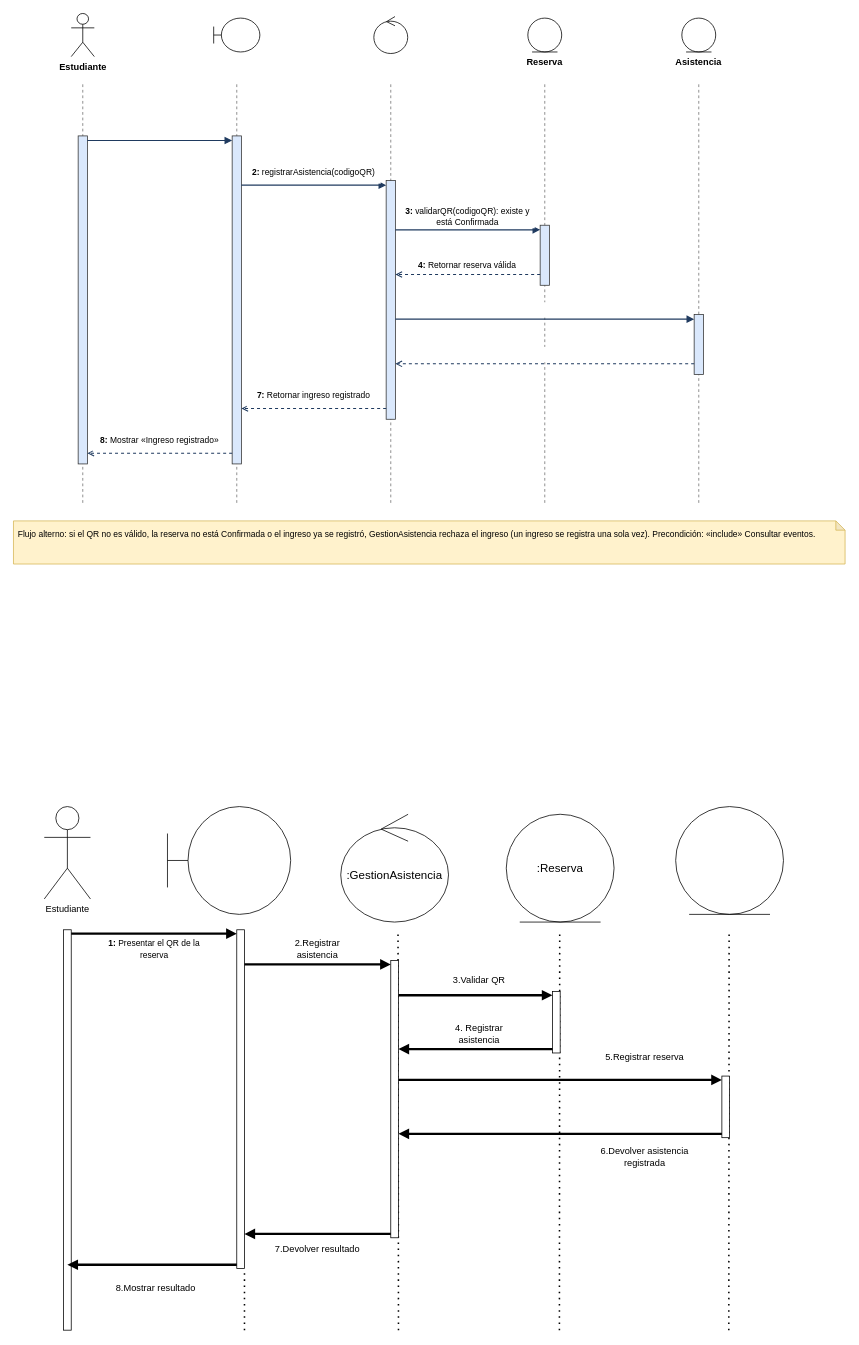
Some shapes in this 859 by 1345 pixel diagram are drawn without their labels. Here are the shapes that lost their labels. From the top down, the box of each, then its label:
(213, 17, 260, 52): PantallaEventos
(373, 16, 408, 54): GestionAsistencia
(432, 302, 657, 317): 5: registrar(codReserva): solo si no hay ingreso
(465, 346, 624, 362): 6: Retornar asistencia registrada
(167, 806, 291, 914): :PantallaEvento
(675, 806, 783, 914): :Asistencia
